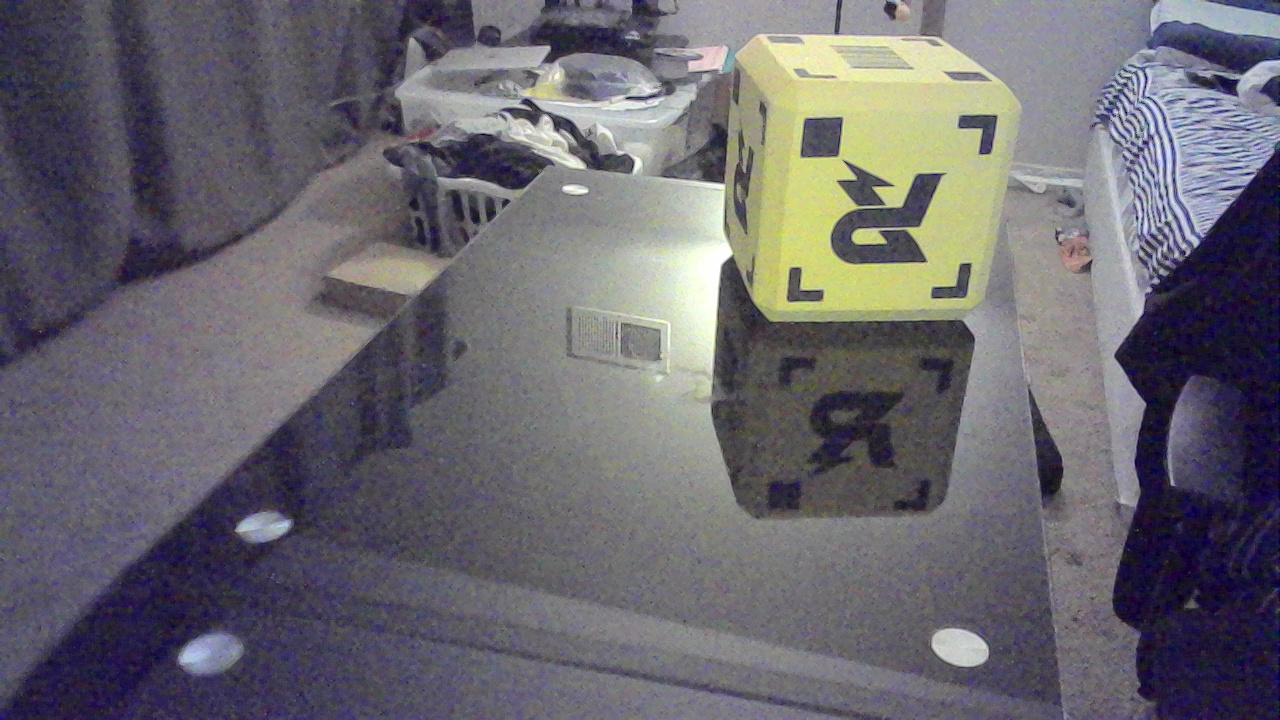Barcode: (825, 44, 926, 79)
R: (835, 161, 948, 269), (734, 133, 768, 240)
